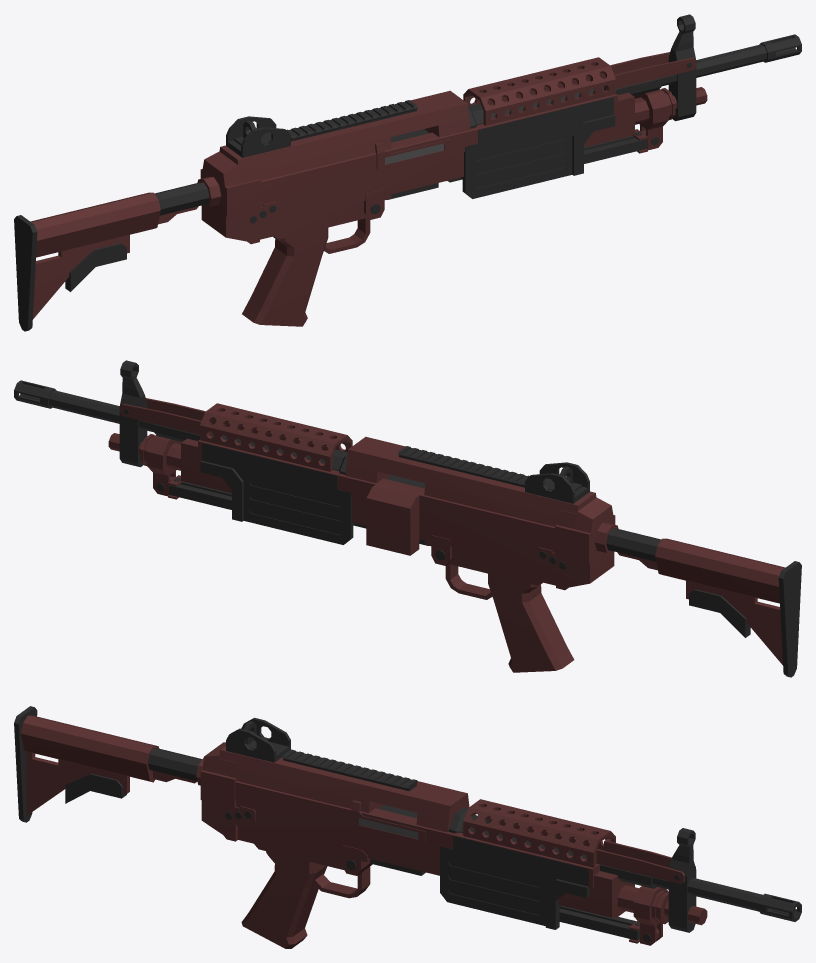
The model's file is LMG2_04.fbx.
3 renders of one model, top to bottom at view 1: azimuth 30°, elevation 25°; view 2: azimuth 150°, elevation 25°; view 3: azimuth 330°, elevation 25°, orthographic.
Visible parts, largest first — view 1: LMG2_04; view 2: LMG2_04; view 3: LMG2_04.
Boxes of the visible parts, box(x1,y1,x2,y2) form: LMG2_04: box(14, 14, 801, 331); LMG2_04: box(14, 360, 801, 677); LMG2_04: box(14, 706, 801, 948).
Bounding box in the file's own units: 1.13 × 0.2931 × 0.0903.
